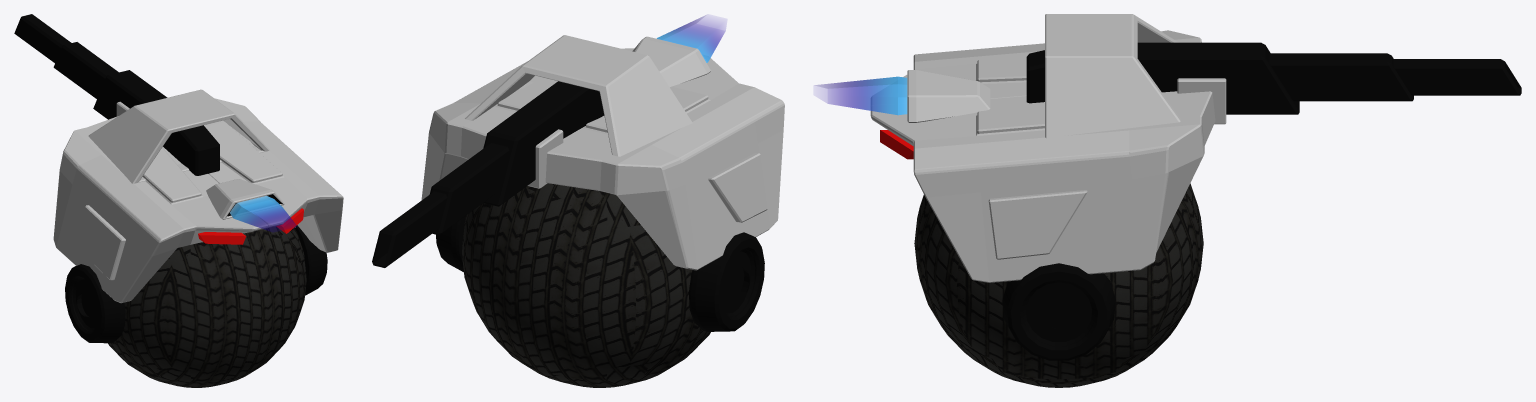
Rendered from test-tank.glb.
3 renders of one model, left to right at view 1: azimuth 30°, elevation 25°; view 2: azimuth 150°, elevation 25°; view 3: azimuth 270°, elevation 25°, orthographic. The views are drawn at different scales.
Parts seen in each view (by area): view 1: Body, Ball, Gun, Cylinder, thruster, tails; view 2: Body, Ball, Gun, Cylinder, thruster; view 3: Body, Ball, Gun, Cylinder, thruster.
Boxes of the visible parts, x1,y1,x2,y2 form: Body: (53,89,343,303); Ball: (108,226,306,387); Gun: (14,14,219,175); Cylinder: (65,225,327,343); thruster: (230,196,296,232); tails: (198,208,303,244); Body: (421,35,784,270); Ball: (462,183,710,387); Gun: (372,81,604,267); Cylinder: (436,216,764,331); thruster: (657,15,726,62); Body: (870,14,1226,282); Ball: (914,183,1203,387); Gun: (1026,42,1521,114); Cylinder: (1002,263,1115,360); thruster: (814,76,907,115).
Size of the model in its own units: 2.41 by 2.59 by 4.9.
Materials: 6 (2 with a texture image).
